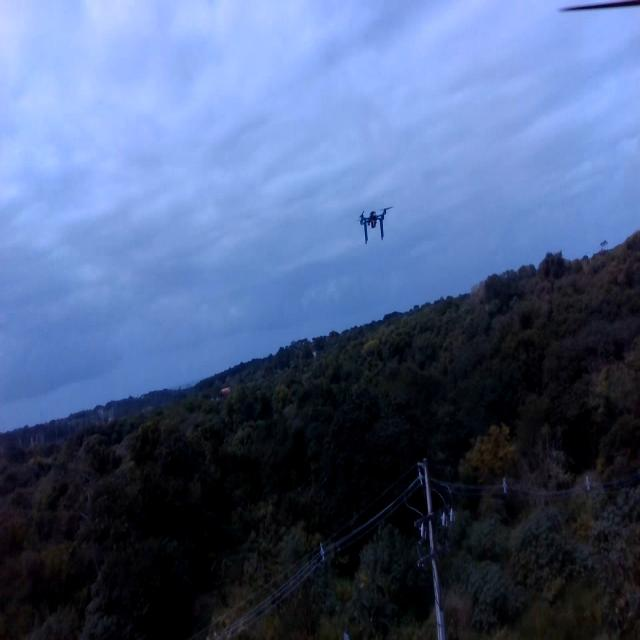-uav-: (356, 190, 396, 253)
